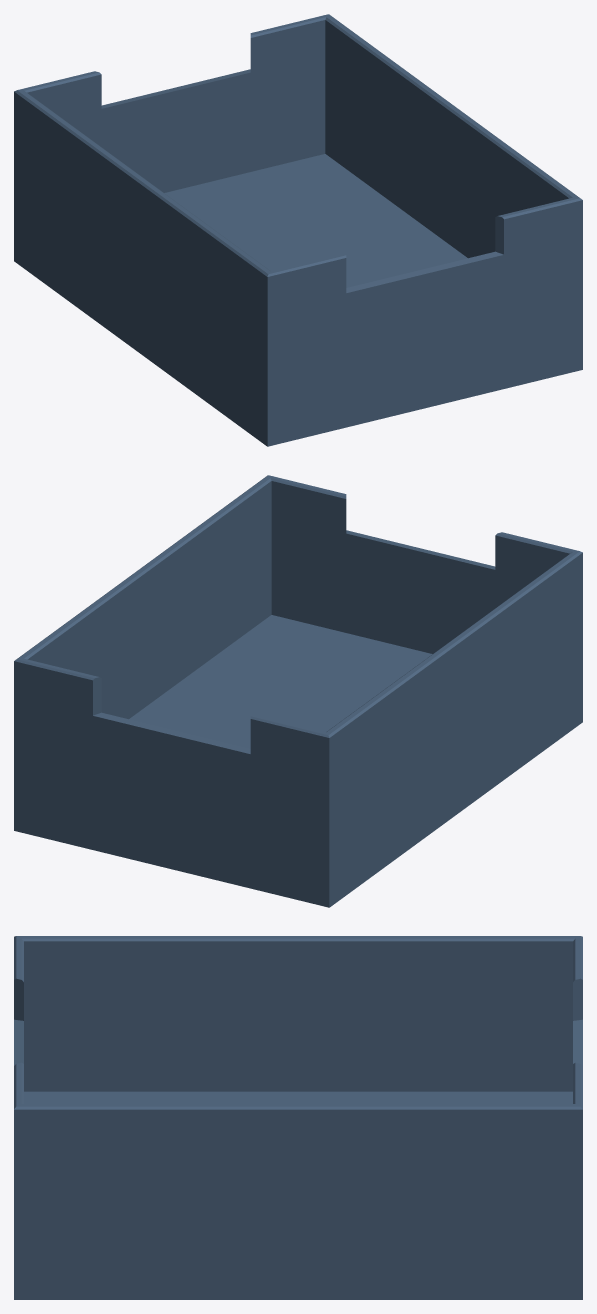
The model's file is TomatoCartoon.fbx.
3 renders of one model, top to bottom at view 1: azimuth 30°, elevation 25°; view 2: azimuth 150°, elevation 25°; view 3: azimuth 270°, elevation 25°, orthographic. The views are drawn at different scales.
Visible parts, largest first — view 1: Cube.002; view 2: Cube.002; view 3: Cube.002.
Boxes of the visible parts, x1,y1,x2,y2 form: Cube.002: (14, 14, 582, 446); Cube.002: (14, 475, 582, 907); Cube.002: (14, 936, 582, 1299).
Bounding box in the file's own units: 1345 × 698 × 1871.
